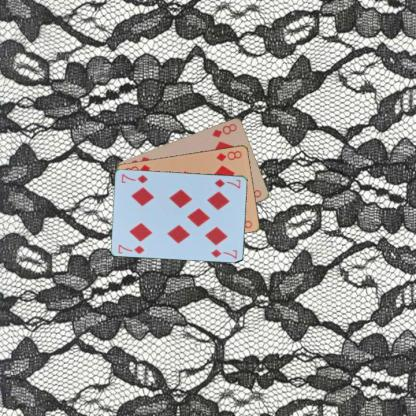7d: (212, 176, 242, 190), (116, 241, 146, 255)
8d: (210, 121, 238, 138), (214, 148, 243, 162)
